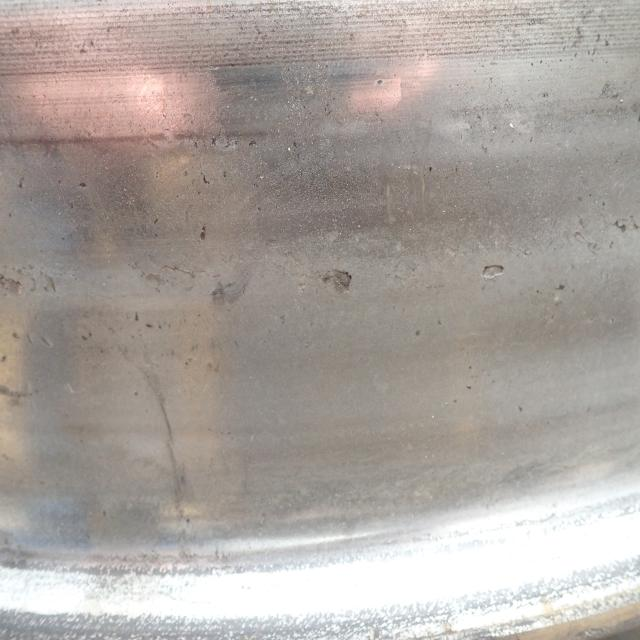Peeling: (320, 268, 355, 294), (2, 274, 28, 297), (483, 264, 505, 284), (616, 215, 638, 233), (200, 226, 212, 242)
